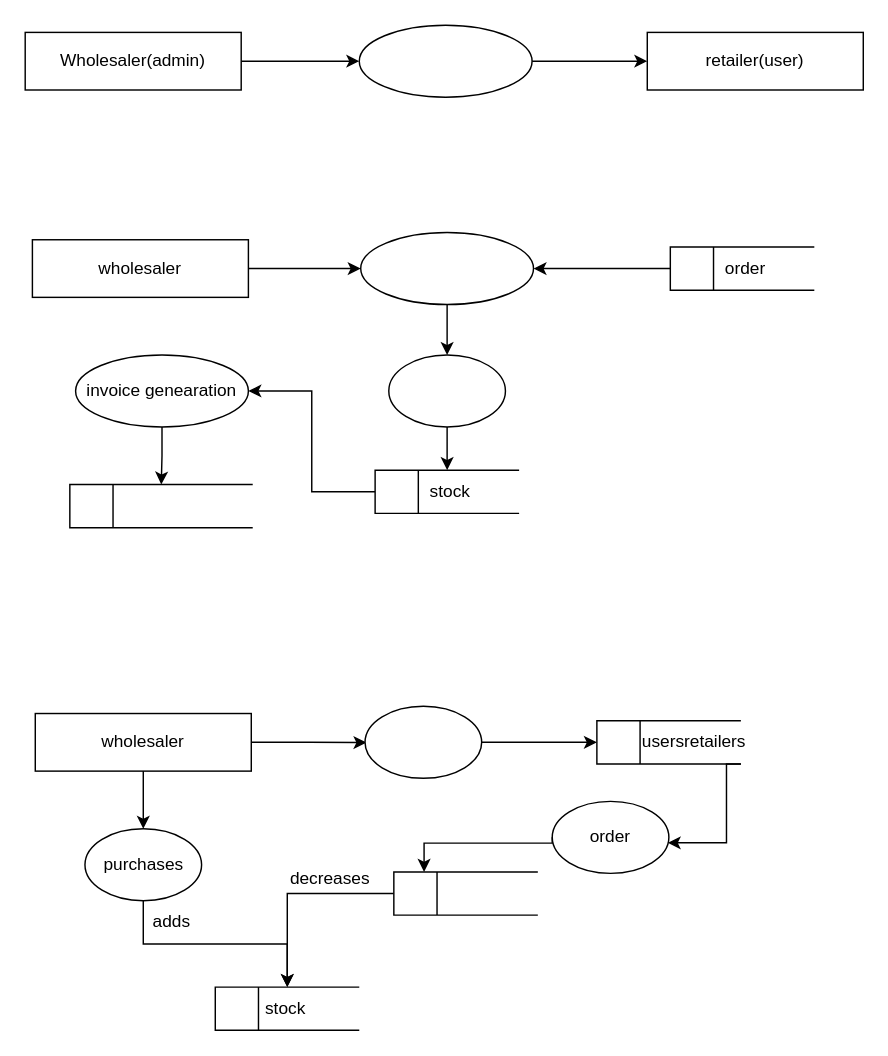
Some shapes in this 888 by 1056 pixel diagram are drawn without their labels. The centre of each missing label's shape, as x and y in pixels:
add user: the point at 423,741
bill and orders: the point at 160,505
orders: the point at 465,892
stock updation: the point at 446,390
view order: the point at 446,268
Wholesale Footwear Managment: the point at 445,60
